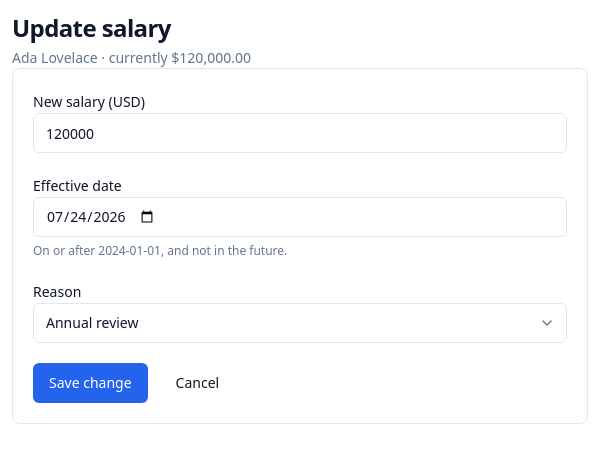
Test: UpdateSalaryForm › blocks submission and shows an error for a non-positive amount
Replace the text in the number field labelled "New salary (USD)" with "0" at (300, 133), box [33,113,567,153]
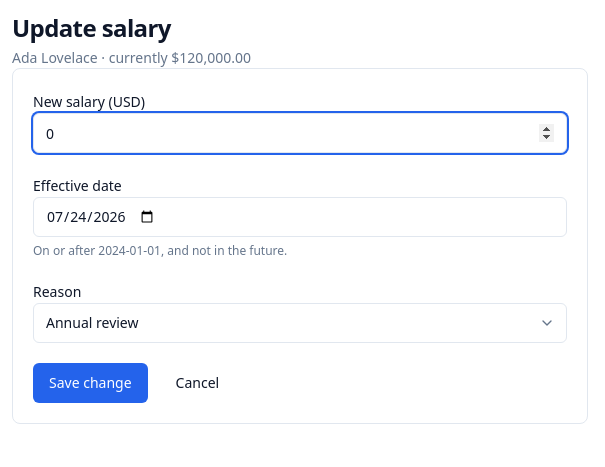
Click the button "Save change" at (90, 383), box [33,363,148,403]
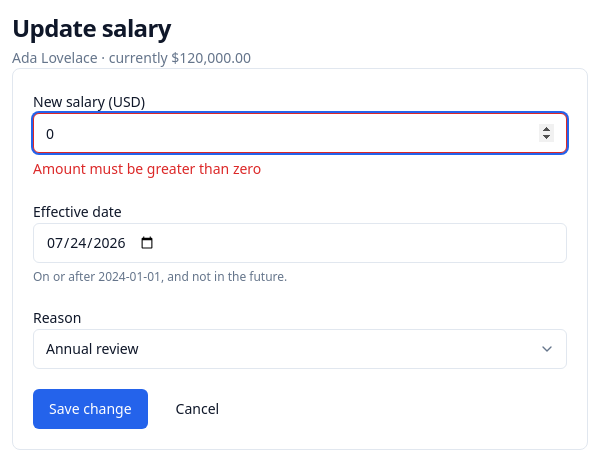
Check: the text "Amount must be greater than zero" is shown, box [33,159,261,178]
